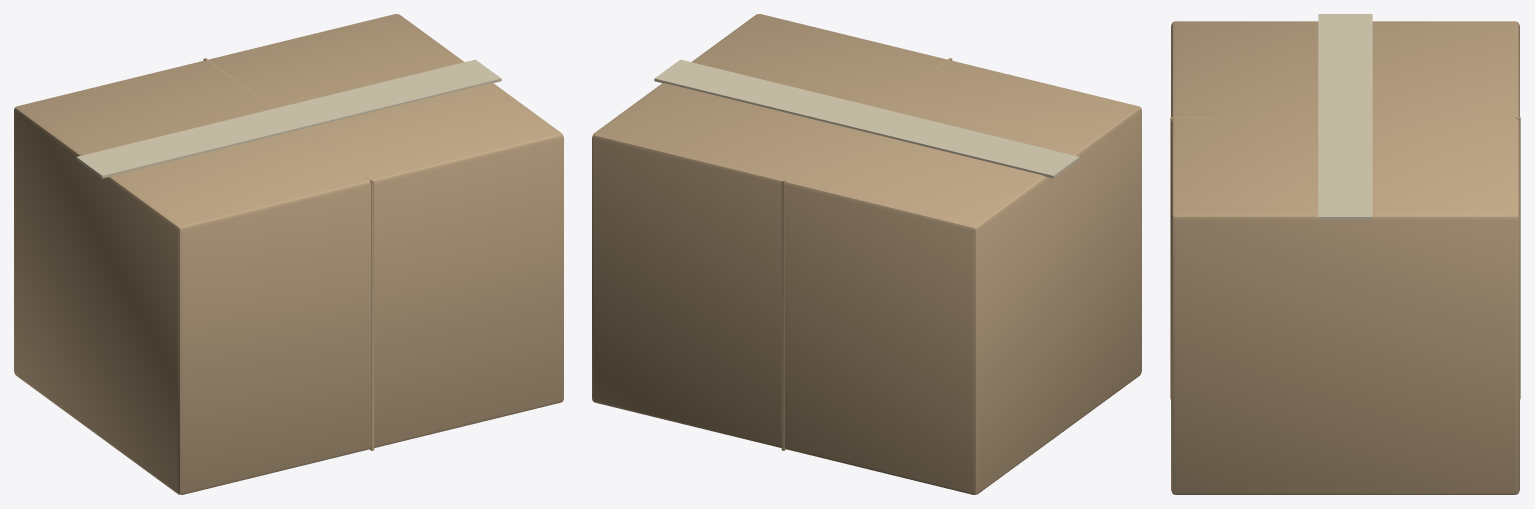
Rendered from SM_Crate.fbx.
3 renders of one model, left to right at view 1: azimuth 30°, elevation 25°; view 2: azimuth 150°, elevation 25°; view 3: azimuth 270°, elevation 25°, orthographic. The views are drawn at different scales.
Parts seen in each view (by area): view 1: SM_Crate; view 2: SM_Crate; view 3: SM_Crate.
Boxes of the visible parts, x1,y1,x2,y2 form: SM_Crate: (14, 14, 563, 494); SM_Crate: (592, 14, 1141, 494); SM_Crate: (1170, 14, 1520, 494).
Size of the model in its own units: 62 by 40.3 by 45.2.
